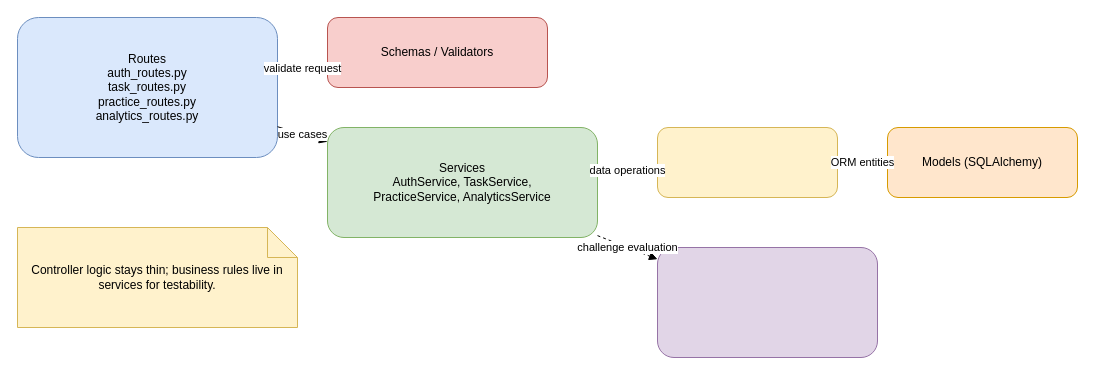
Some shapes in this 1095 by 375 pixel diagram are drawn without their labels. The centre of each missing label's shape, as x and y in pixels:
"Algorithms Module sorting.py searching.py recursion_utils.py" belongs at (767,302).
"Repositories" belongs at (747,162).
